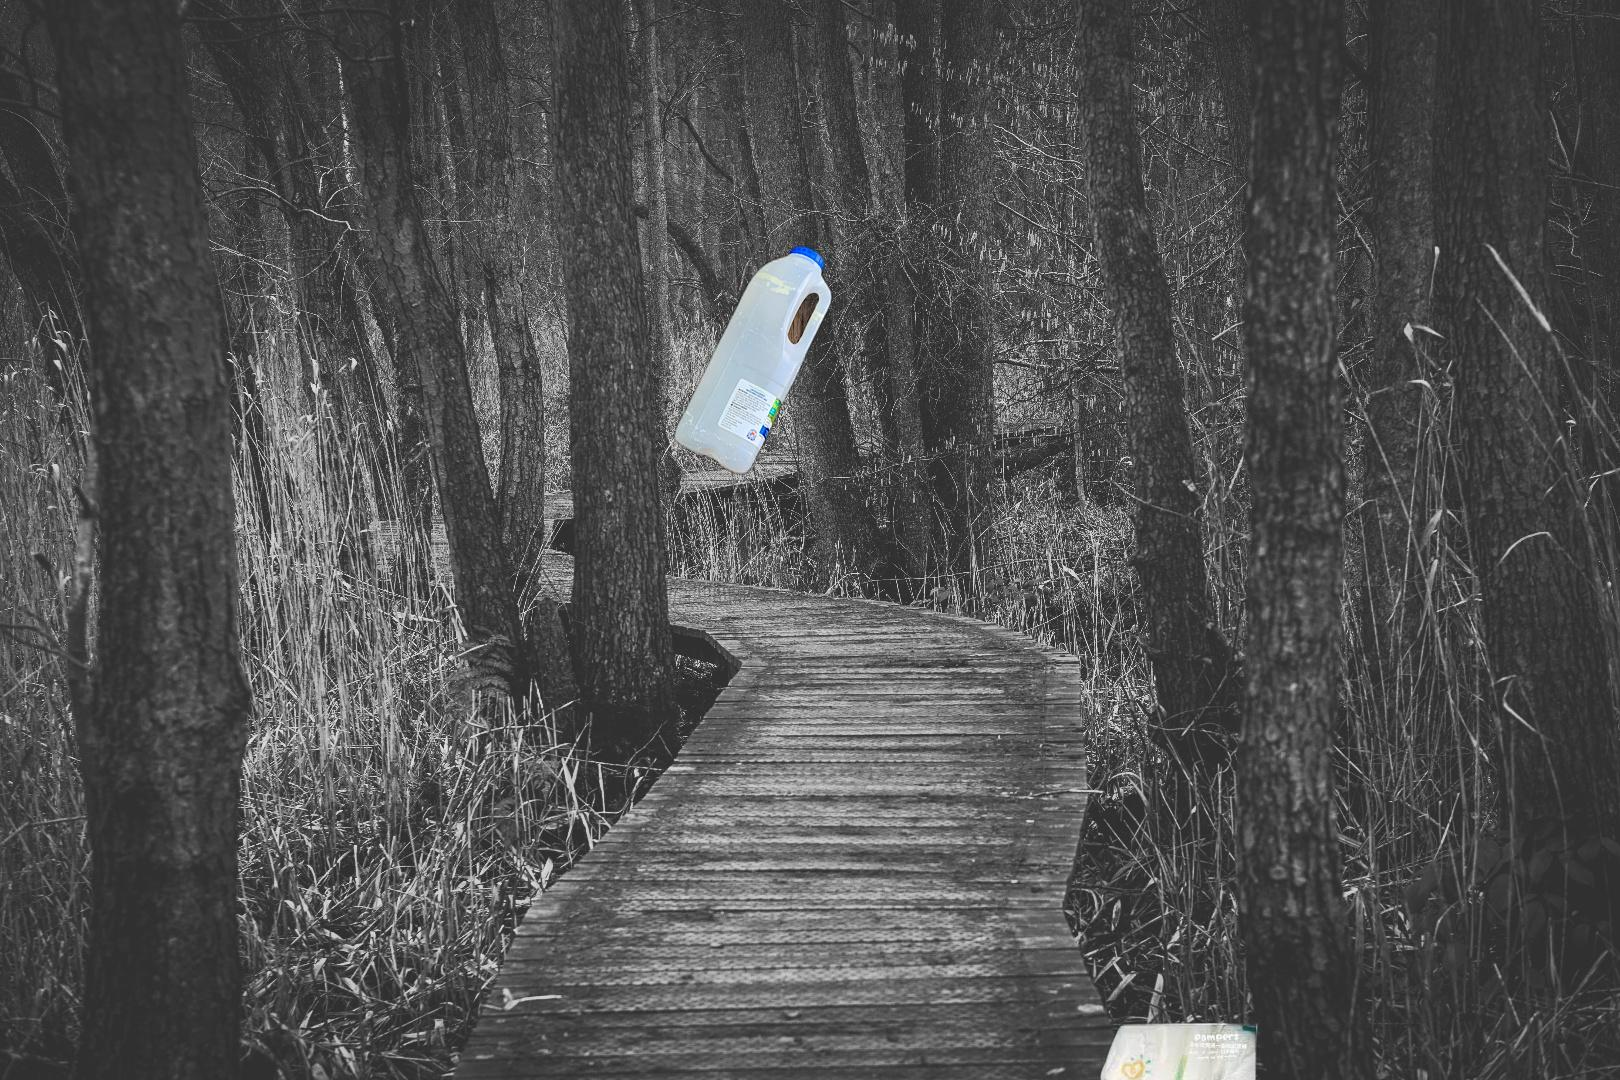plastic-bottles: (671, 240, 837, 480)
trash: (1068, 1023, 1258, 1080)
